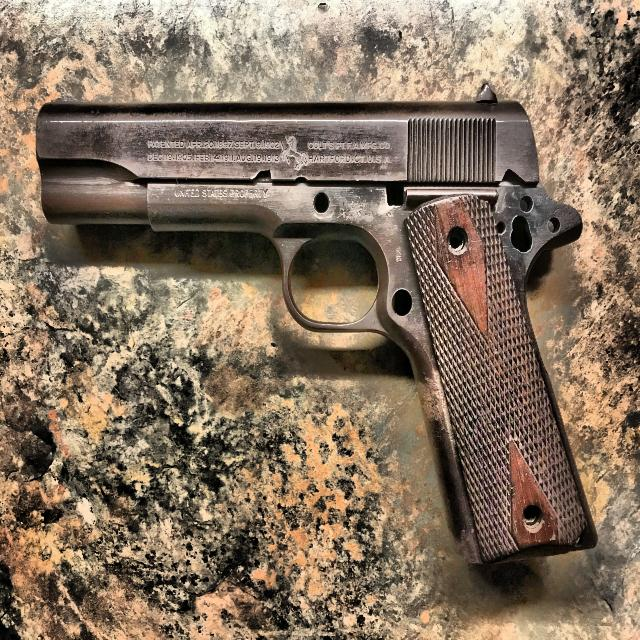Colt m1911: (35, 82, 598, 568)
